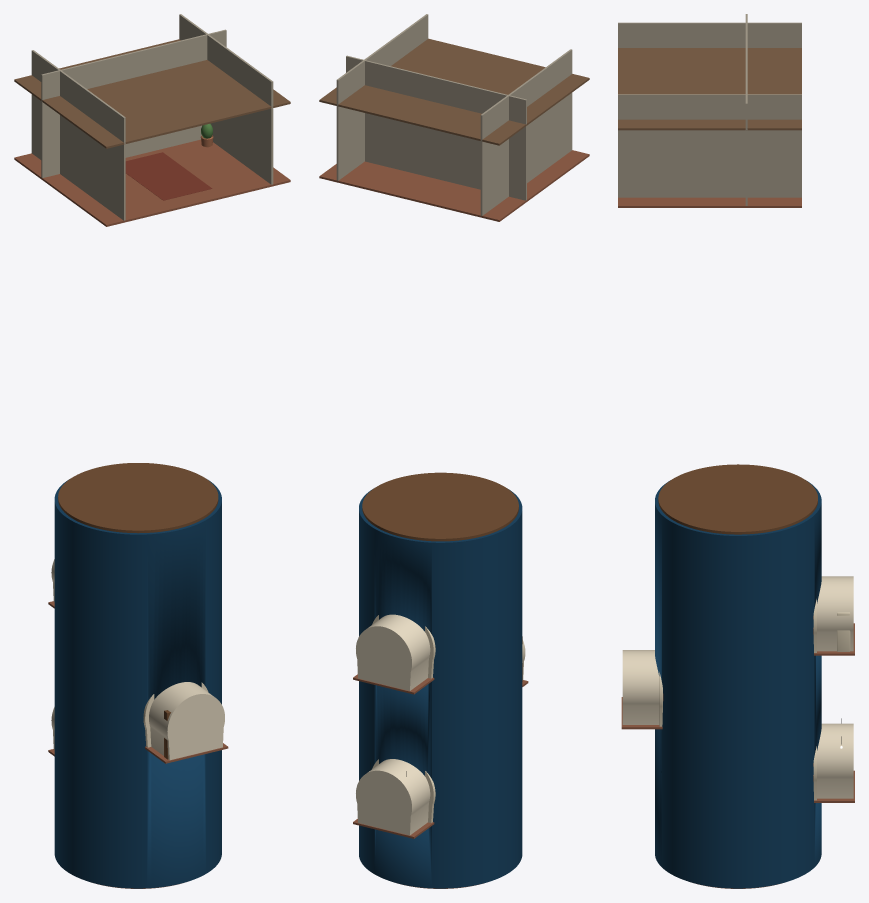
The model's file is world.glb.
3 views of the same model, side by side, from view 1: azimuth 30°, elevation 25°; view 2: azimuth 150°, elevation 25°; view 3: azimuth 270°, elevation 25° (orthographic). The views are drawn at different scales.
Parts seen in each view (by area): view 1: shaft__zellige, vest__wall_brick, vest__ceiling_boards, shaft__wood_dark, vest__floor_ves, a2__plaster_flat, vest__rug; view 2: shaft__zellige, vest__wall_brick, vest__ceiling_boards, shaft__wood_dark, vest__floor_ves, a1__plaster_flat, a3__plaster_flat; view 3: shaft__zellige, vest__wall_brick, vest__ceiling_boards, shaft__wood_dark, a2__plaster_flat, a3__plaster_flat, a1__plaster_flat, vest__floor_ves.
Boxes of the visible parts, <box> form: shaft__zellige: <box>54,479,221,888</box>; vest__wall_brick: <box>31,14,273,220</box>; vest__ceiling_boards: <box>14,39,290,148</box>; shaft__wood_dark: <box>58,463,218,533</box>; vest__floor_ves: <box>14,139,290,226</box>; a2__plaster_flat: <box>149,682,224,760</box>; vest__rug: <box>125,152,212,200</box>; shaft__zellige: <box>359,488,522,888</box>; vest__wall_brick: <box>336,14,572,215</box>; vest__ceiling_boards: <box>319,38,589,145</box>; shaft__wood_dark: <box>362,472,518,541</box>; vest__floor_ves: <box>319,150,589,221</box>; a1__plaster_flat: <box>356,614,430,690</box>; a3__plaster_flat: <box>356,759,430,835</box>; shaft__zellige: <box>655,480,821,888</box>; vest__wall_brick: <box>618,14,801,205</box>; vest__ceiling_boards: <box>618,48,801,130</box>; shaft__wood_dark: <box>658,464,817,534</box>; a2__plaster_flat: <box>622,650,659,724</box>; a3__plaster_flat: <box>817,723,853,798</box>; a1__plaster_flat: <box>817,576,853,651</box>; vest__floor_ves: <box>618,197,801,207</box>.
Size of the model in its own units: 30 by 124 by 33.5.
